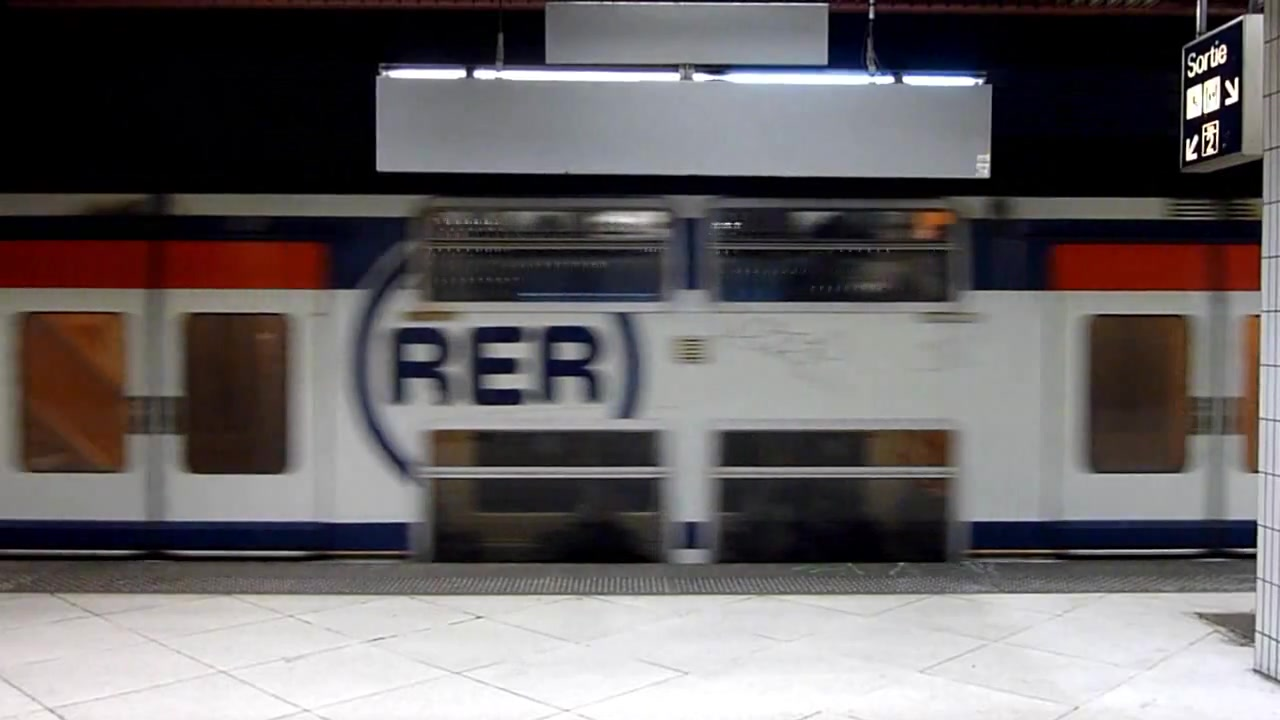train: (1, 172, 1266, 559)
